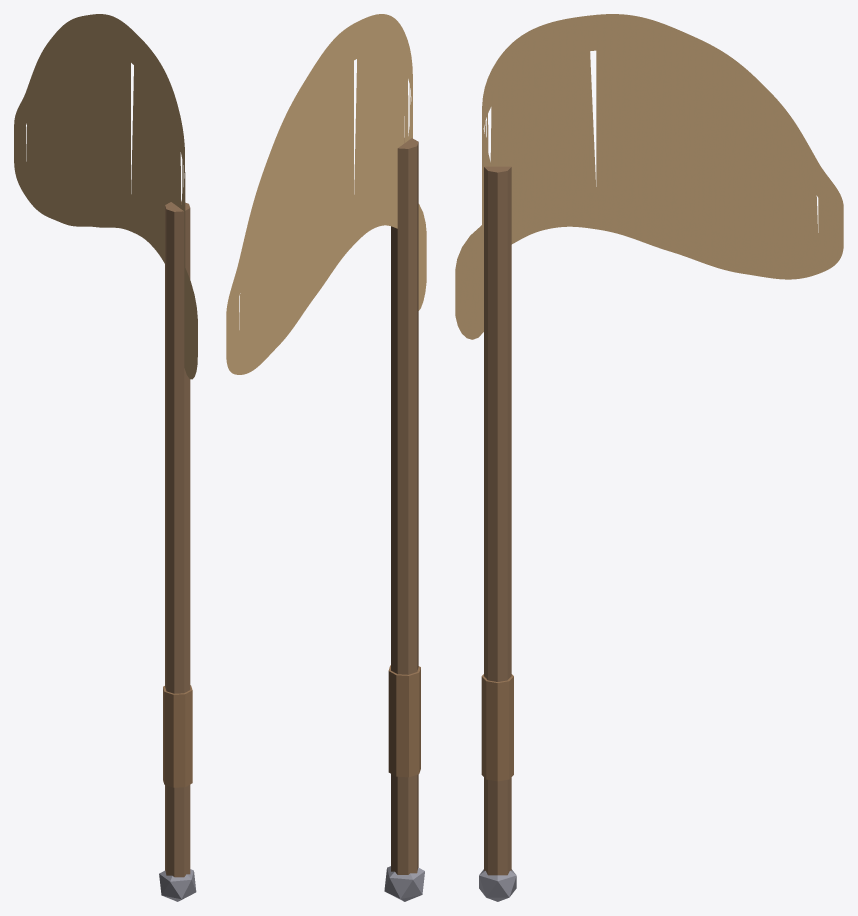
The model's file is wpn_great_scythe.glb.
3 views of the same model, side by side, from view 1: azimuth 30°, elevation 25°; view 2: azimuth 150°, elevation 25°; view 3: azimuth 270°, elevation 25° (orthographic). The views are drawn at different scales.
Visible parts, largest first — view 1: Weapon_GreatScythe; view 2: Weapon_GreatScythe; view 3: Weapon_GreatScythe.
Boxes of the visible parts, <box> form: Weapon_GreatScythe: <box>14,14,197,901</box>; Weapon_GreatScythe: <box>226,14,426,901</box>; Weapon_GreatScythe: <box>455,14,843,901</box>.
Bounding box in the file's own units: 0.0805 × 1.99 × 0.7881.
